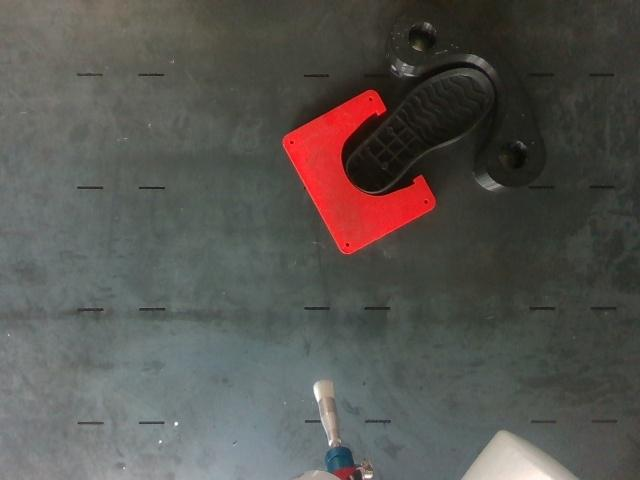shoes: (347, 69, 492, 191)
